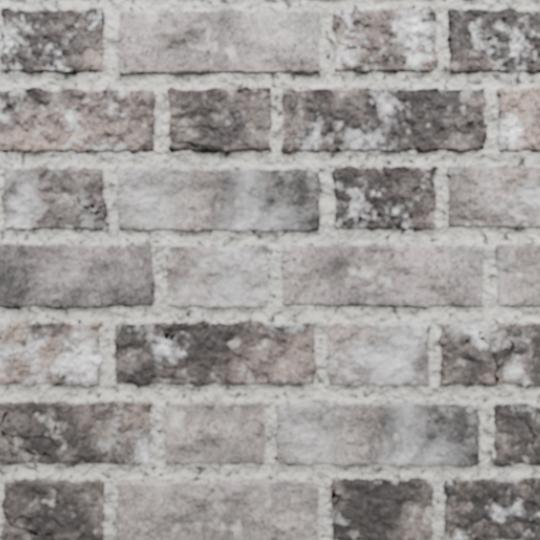brick: (281, 85, 485, 153), (117, 8, 318, 73), (116, 167, 319, 231), (114, 320, 314, 384), (276, 402, 478, 465), (281, 244, 482, 306), (116, 481, 317, 539), (0, 86, 154, 150), (0, 244, 153, 307), (0, 401, 150, 463), (331, 6, 437, 72), (0, 7, 103, 72), (332, 165, 436, 229), (168, 87, 270, 151), (1, 166, 106, 228), (0, 321, 101, 385), (438, 320, 539, 384), (327, 322, 428, 384), (167, 245, 266, 307), (164, 401, 263, 463), (331, 479, 432, 539), (2, 479, 103, 539), (443, 478, 539, 539), (448, 8, 539, 72), (447, 164, 539, 227), (494, 403, 539, 465), (496, 86, 539, 149), (495, 245, 539, 305), (1, 519, 51, 539), (169, 142, 211, 150)
crack: (477, 330, 516, 385), (2, 510, 63, 539), (68, 187, 106, 217), (309, 109, 337, 148), (169, 122, 224, 136), (170, 138, 216, 151), (151, 374, 199, 385), (330, 488, 342, 504), (332, 536, 349, 539), (473, 419, 479, 426), (425, 327, 429, 333)
